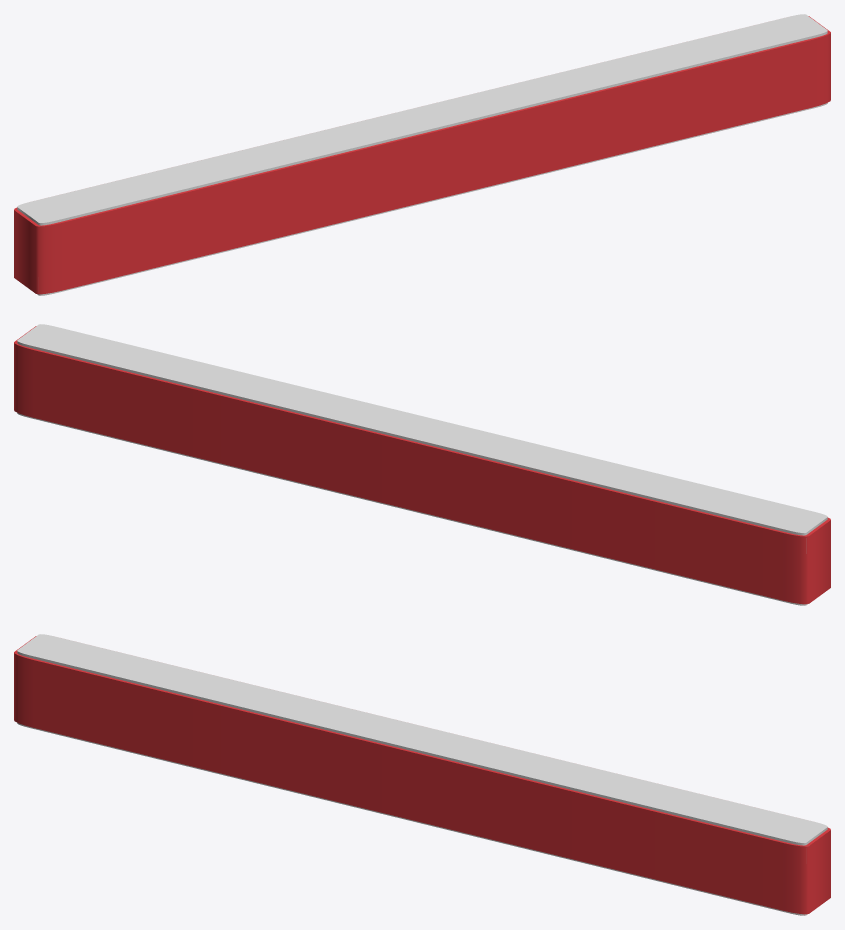
Rendered from BumperRamp.fbx.
3 views of the same model, one above another, from view 1: azimuth 30°, elevation 25°; view 2: azimuth 150°, elevation 25°; view 3: azimuth 330°, elevation 25° (orthographic).
Parts seen in each view (by area): view 1: BumperRamp; view 2: BumperRamp; view 3: BumperRamp.
Boxes of the visible parts, box(x1,y1,x2,y2) form: BumperRamp: box(14, 14, 830, 295); BumperRamp: box(14, 324, 830, 605); BumperRamp: box(14, 634, 830, 915).
Bounding box in the file's own units: 2454 × 214 × 152.
